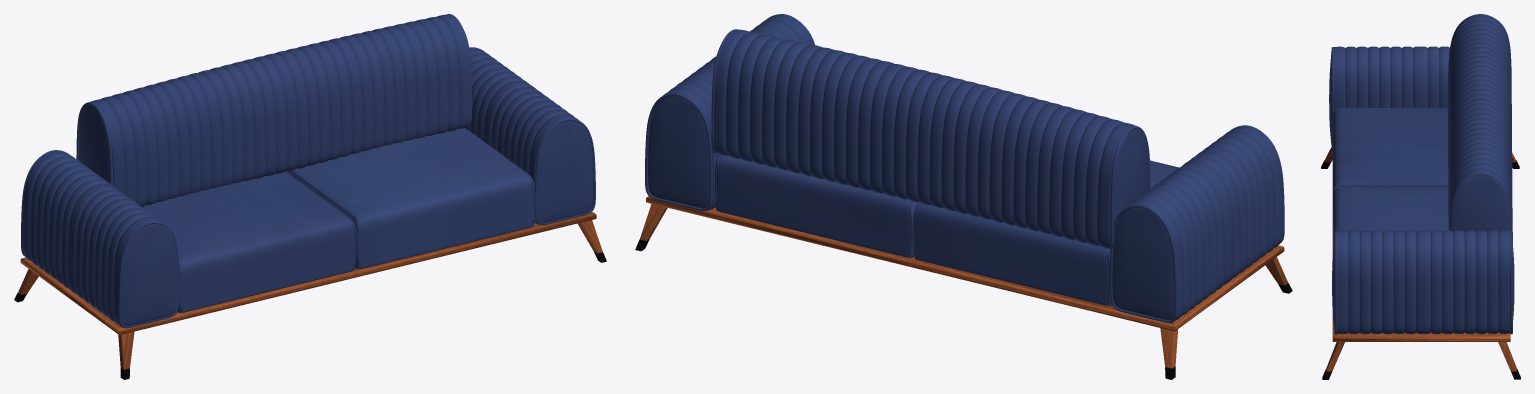
The model's file is Modern Solid 3 Seater Sofa Couch for Living Room Bedroom Hall Office (navy blue)fixed.glb.
3 renders of one model, left to right at view 1: azimuth 30°, elevation 25°; view 2: azimuth 150°, elevation 25°; view 3: azimuth 270°, elevation 25°, orthographic. The views are drawn at different scales.
Visible parts, largest first — view 1: Shape017; view 2: Shape017; view 3: Shape017.
Part boxes in pixels (box(x1,y1,x2,y2)): Shape017: box(14, 14, 606, 379); Shape017: box(635, 14, 1292, 379); Shape017: box(1321, 14, 1520, 379).
Size of the model in its own units: 1.51 by 0.601 by 0.5982.
3 materials, 2 textured.
